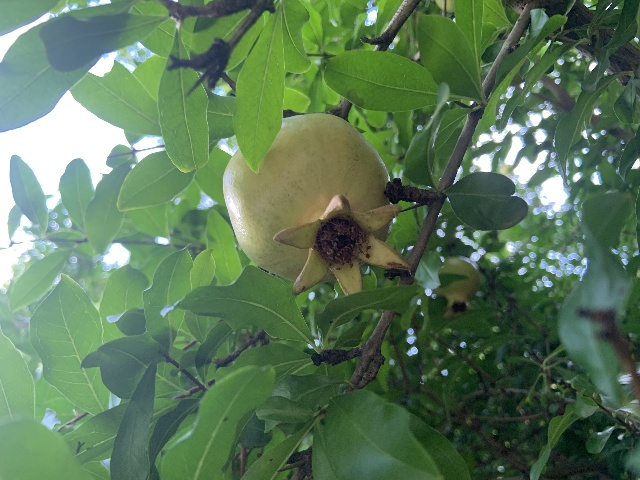mid-growth: (222, 113, 407, 299), (434, 256, 482, 318)
